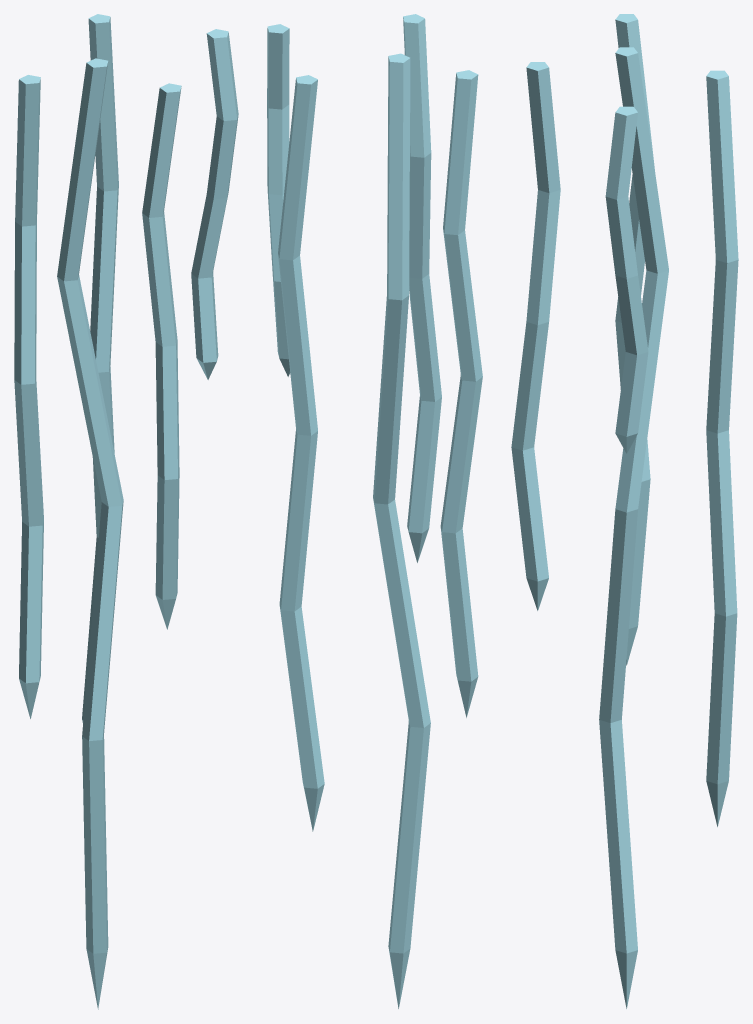
File: GlowWorm1.fbx
3 views of the same model, side by side, from view 1: azimuth 30°, elevation 25°; view 2: azimuth 150°, elevation 25°; view 3: azimuth 270°, elevation 25° (orthographic).
Visible parts, largest first — view 1: Glowworms; view 2: Glowworms; view 3: Glowworms.
Boxes of the visible parts, x1,y1,x2,y2 form: Glowworms: [14, 14, 238, 1009]; Glowworms: [267, 14, 482, 1008]; Glowworms: [511, 14, 738, 1008].
Bounding box in the file's own units: 8.71 × 36.48 × 7.83.
